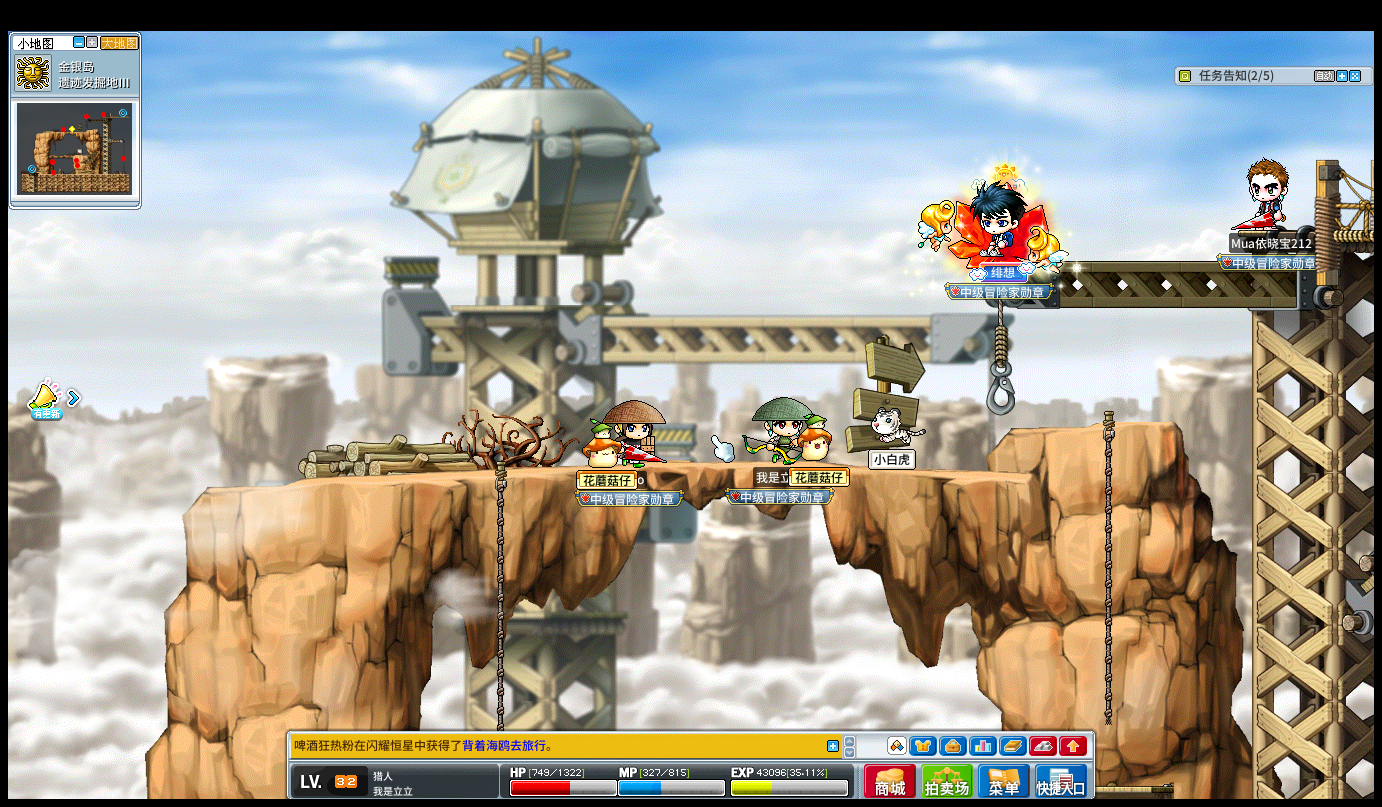floor: (201, 455, 1075, 482), (1011, 417, 1179, 434), (1012, 421, 1179, 436)
rope: (1100, 410, 1115, 726), (492, 455, 507, 740), (1101, 409, 1114, 643), (494, 458, 506, 670)
